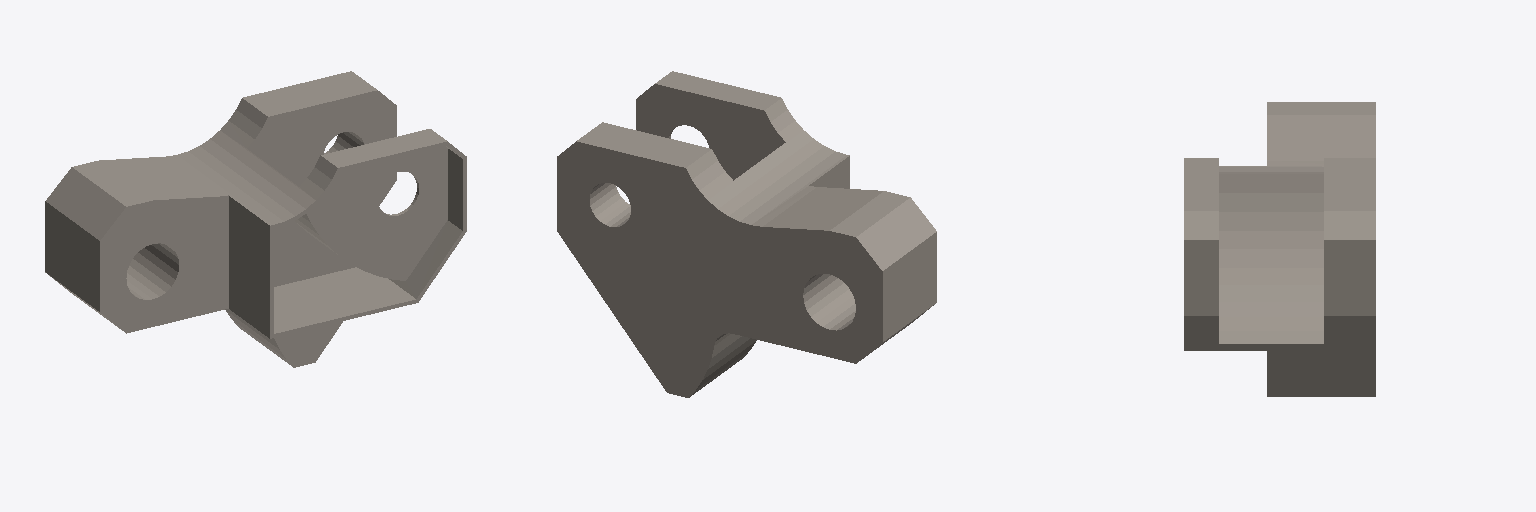
The model's file is practise_1.obj.
The picture shows the model from 3 angles: view 1: azimuth 30°, elevation 25°; view 2: azimuth 150°, elevation 25°; view 3: azimuth 270°, elevation 25°; orthographic projection.
Visible parts, largest first — view 1: Practise_1; view 2: Practise_1; view 3: Practise_1.
Part boxes in pixels (bbox=[...]): Practise_1: bbox=[45, 71, 466, 367]; Practise_1: bbox=[557, 71, 936, 397]; Practise_1: bbox=[1184, 102, 1375, 396].
Size of the model in its own units: 86 by 58 by 44.